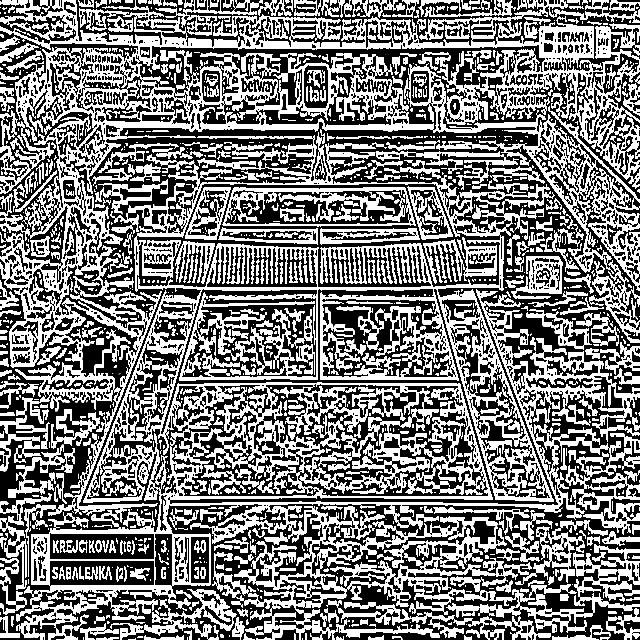left side: (80, 185, 232, 504), (406, 185, 557, 503)
player: (144, 414, 180, 556), (310, 120, 333, 181)
